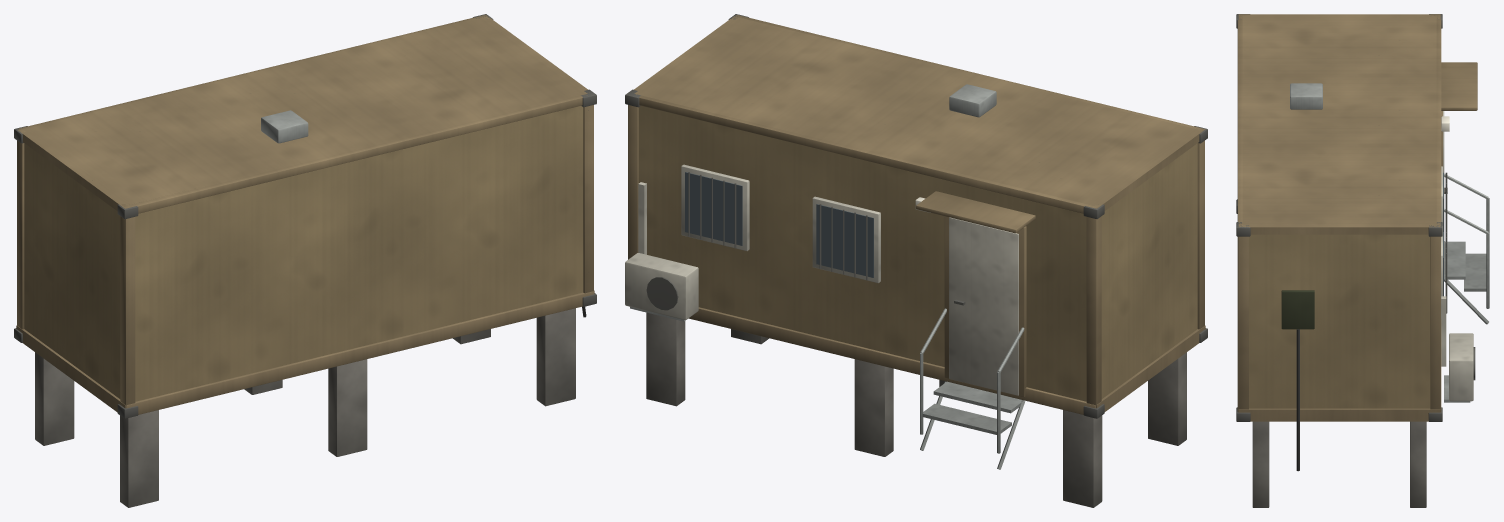
Rendered from barracks.glb.
3 views of the same model, side by side, from view 1: azimuth 30°, elevation 25°; view 2: azimuth 150°, elevation 25°; view 3: azimuth 270°, elevation 25° (orthographic). The views are drawn at different scales.
Visible parts, largest first — view 1: barracks; view 2: barracks; view 3: barracks.
Boxes of the visible parts, x1,y1,x2,y2 form: barracks: (14,14,596,507); barracks: (625,14,1207,507); barracks: (1236,14,1489,507).
Size of the model in its own units: 6.41 by 3.99 by 3.05.
10 materials, 6 textured.
